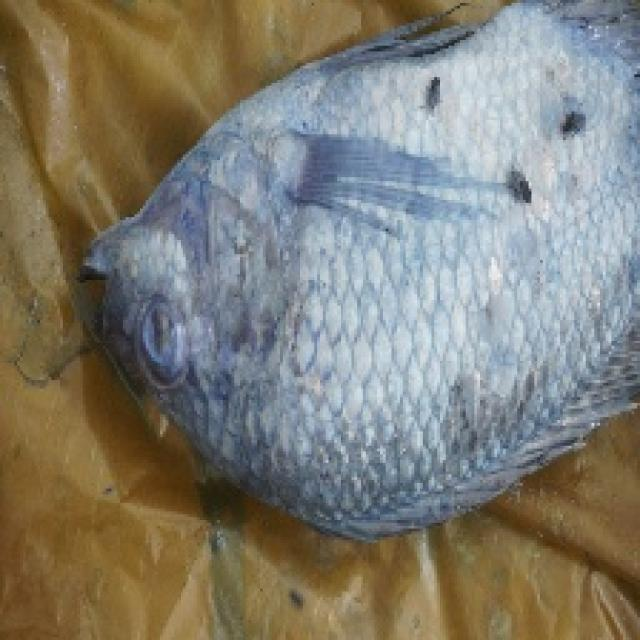Non-Fresh: (73, 86, 640, 500)
